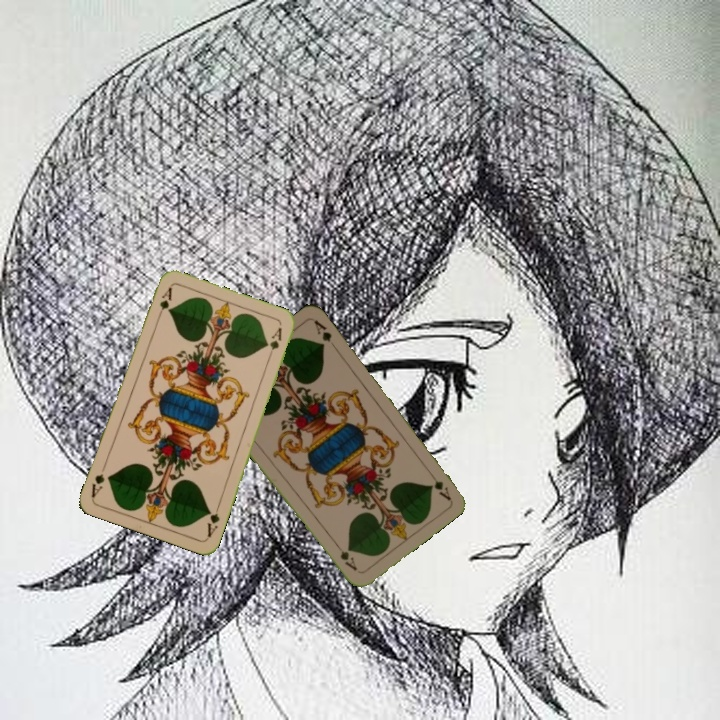GA: (424, 467, 453, 503), (153, 283, 175, 322), (203, 501, 223, 540)
